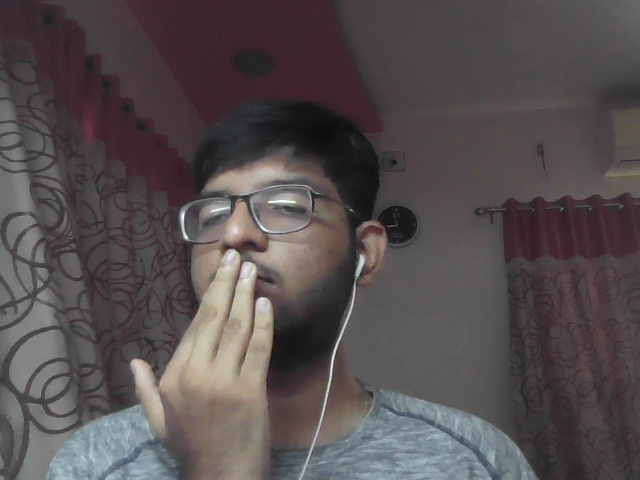આભાર: (115, 242, 303, 480)
